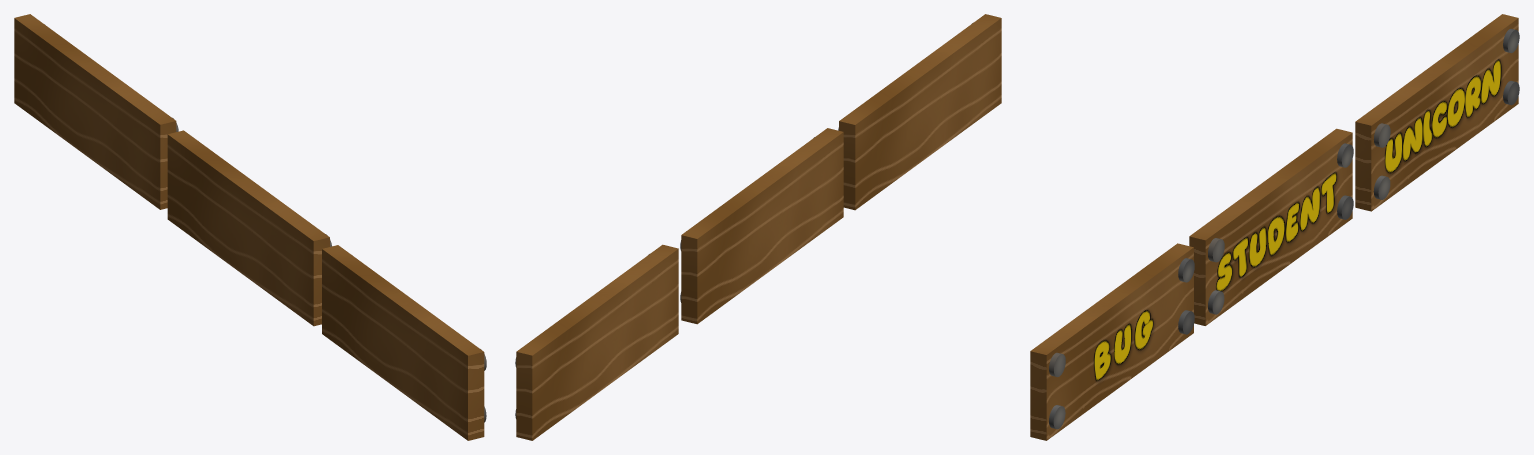
Rendered from SIGNBOARDS.fbx.
3 renders of one model, left to right at view 1: azimuth 30°, elevation 25°; view 2: azimuth 150°, elevation 25°; view 3: azimuth 330°, elevation 25°, orthographic.
Visible parts, largest first — view 1: polySurface2, polySurface10, polySurface11; view 2: polySurface10, polySurface11, polySurface2; view 3: polySurface2, polySurface11, polySurface10.
Boxes of the visible parts, box(x1,y1,x2,y2) form: polySurface2: box(322, 245, 486, 440); polySurface10: box(167, 130, 331, 326); polySurface11: box(14, 14, 178, 209); polySurface10: box(680, 128, 843, 324); polySurface11: box(515, 244, 678, 440); polySurface2: box(838, 14, 1001, 210); polySurface2: box(1030, 243, 1194, 440); polySurface11: box(1355, 14, 1519, 211); polySurface10: box(1189, 128, 1353, 325).
Bounding box in the file's own units: 0.6124 × 1.79 × 17.28.
